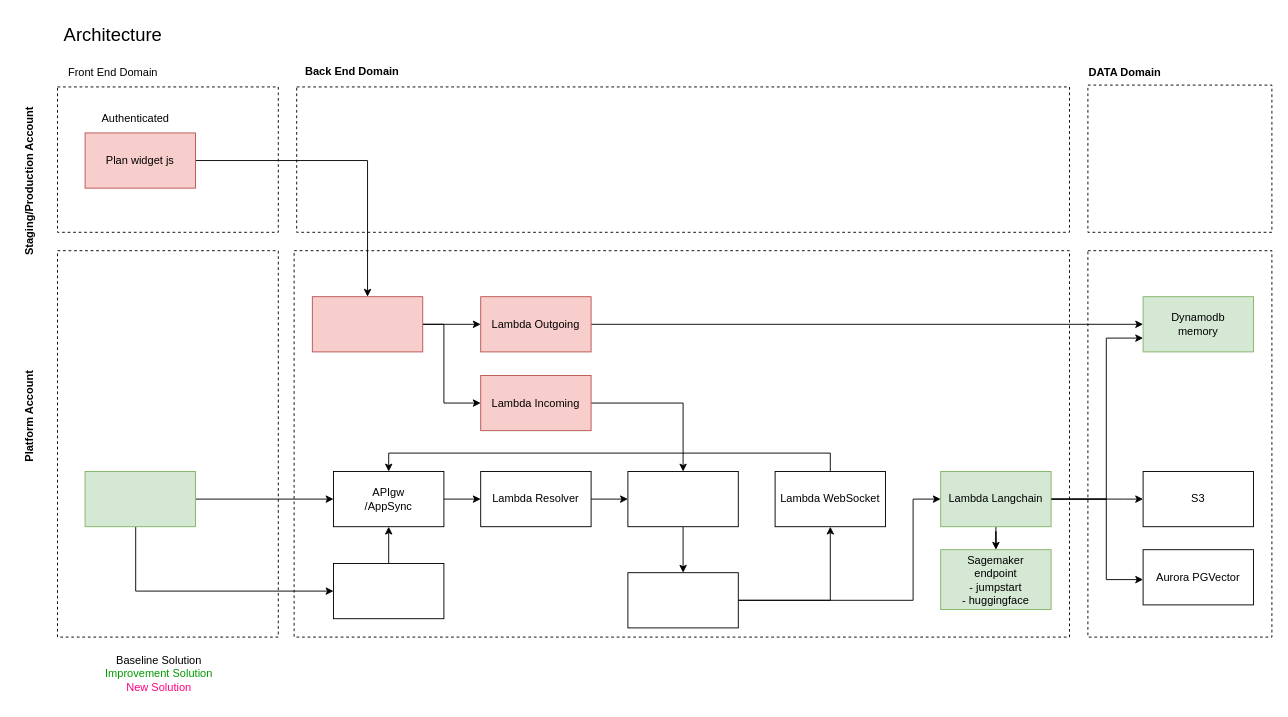
Image size: 1288x717. Some labels were removed from this diagram. Each missing label, with the box of its shape:
ALB: (311, 296, 423, 352)
Cognito user pool: (333, 563, 444, 619)
Custom Admin console: (84, 471, 196, 527)
SNS: (627, 471, 738, 527)
SQS: (627, 572, 738, 628)
